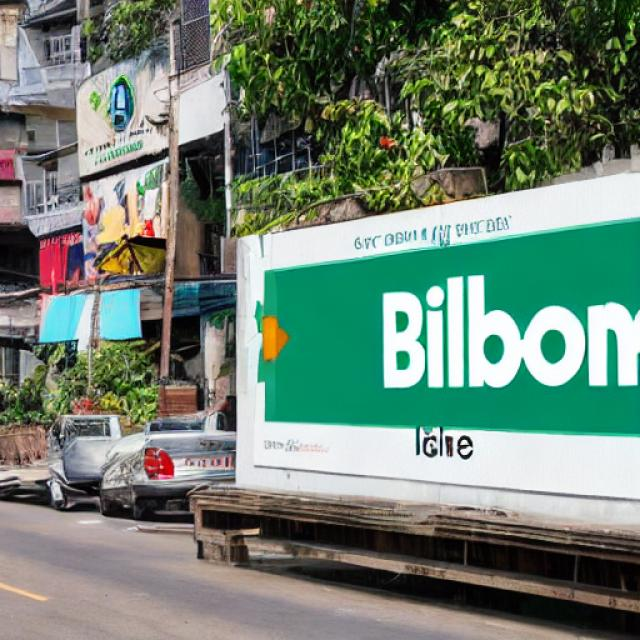Billboard: (236, 173, 640, 541)
